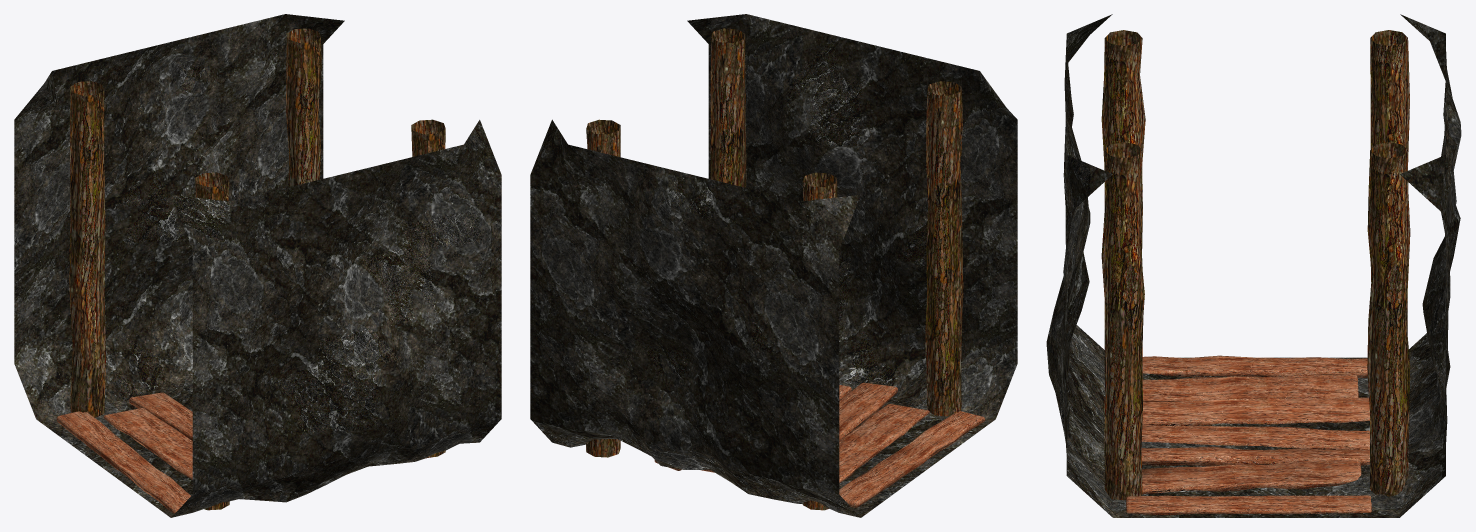
The model's file is Cave_019.fbx.
3 views of the same model, side by side, from view 1: azimuth 30°, elevation 25°; view 2: azimuth 150°, elevation 25°; view 3: azimuth 270°, elevation 25° (orthographic). The views are drawn at different scales.
Parts seen in each view (by area): view 1: Cave.019; view 2: Cave.019; view 3: Cave.019.
Part boxes in pixels (x1,y1,x2,y2): Cave.019: (14, 14, 501, 517); Cave.019: (530, 14, 1017, 517); Cave.019: (1046, 14, 1461, 517).
Bounding box in the file's own units: 300 × 308 × 328.
